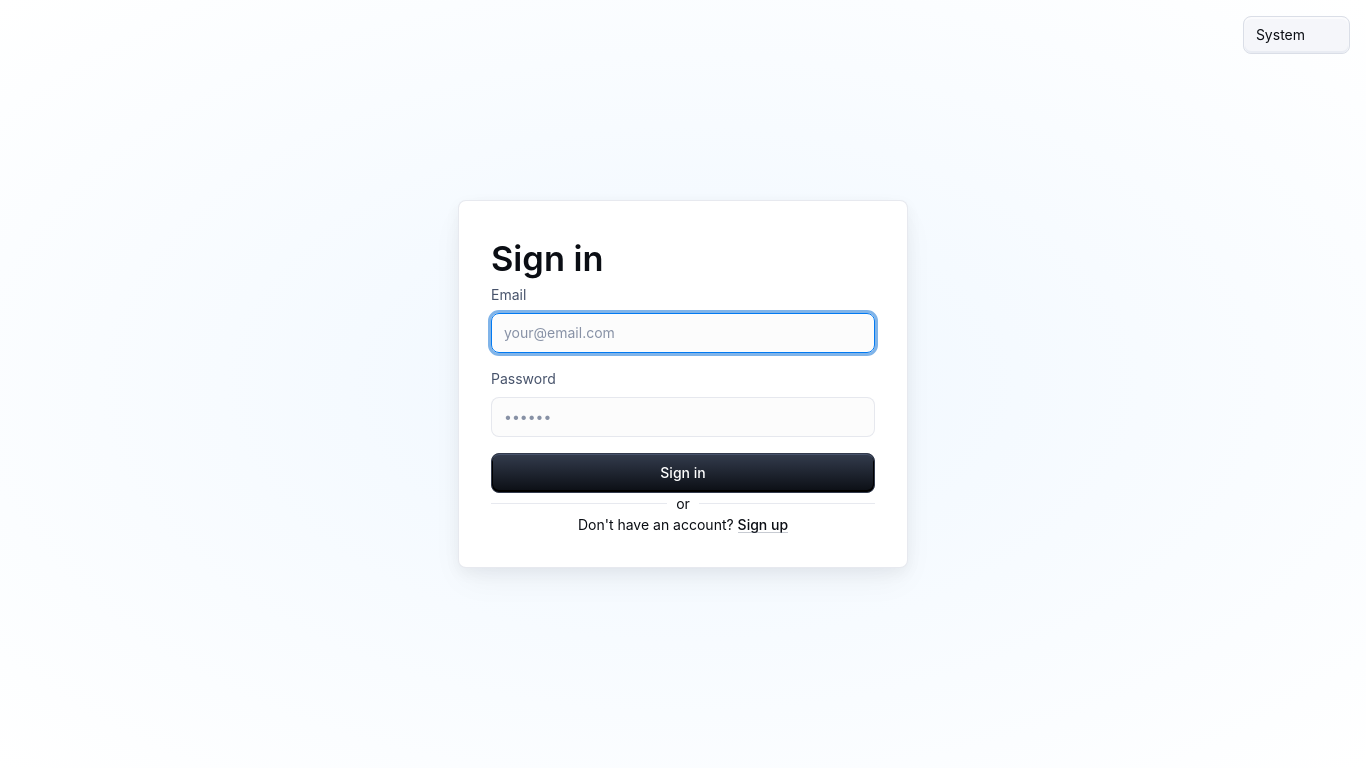
Test: Auth - Sign In › shows server error toast on invalid credentials
In the field with id "email": (683, 333) [504,323,862,343], type "george.bluth@reqres.in"
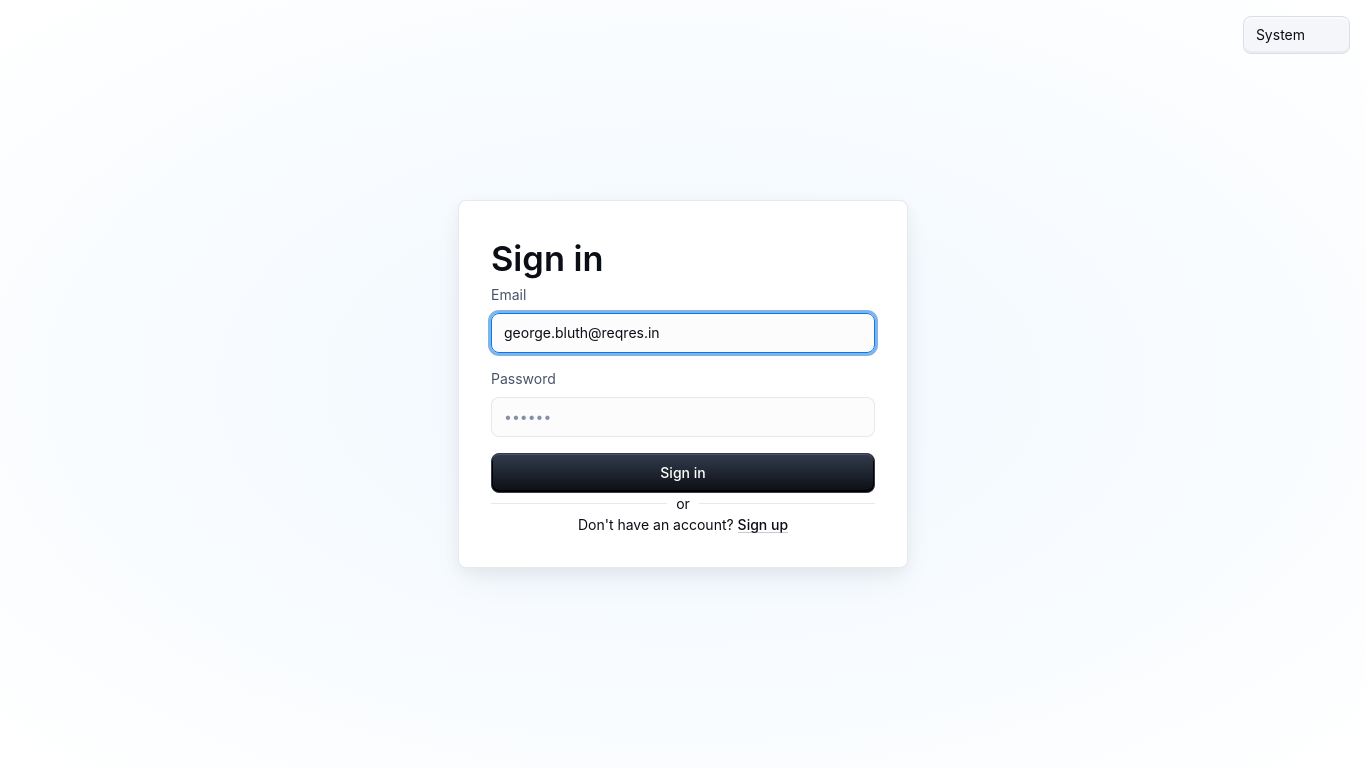
In the password field labelled "Password": (683, 417) [504,407,862,427], type "cityslicka"
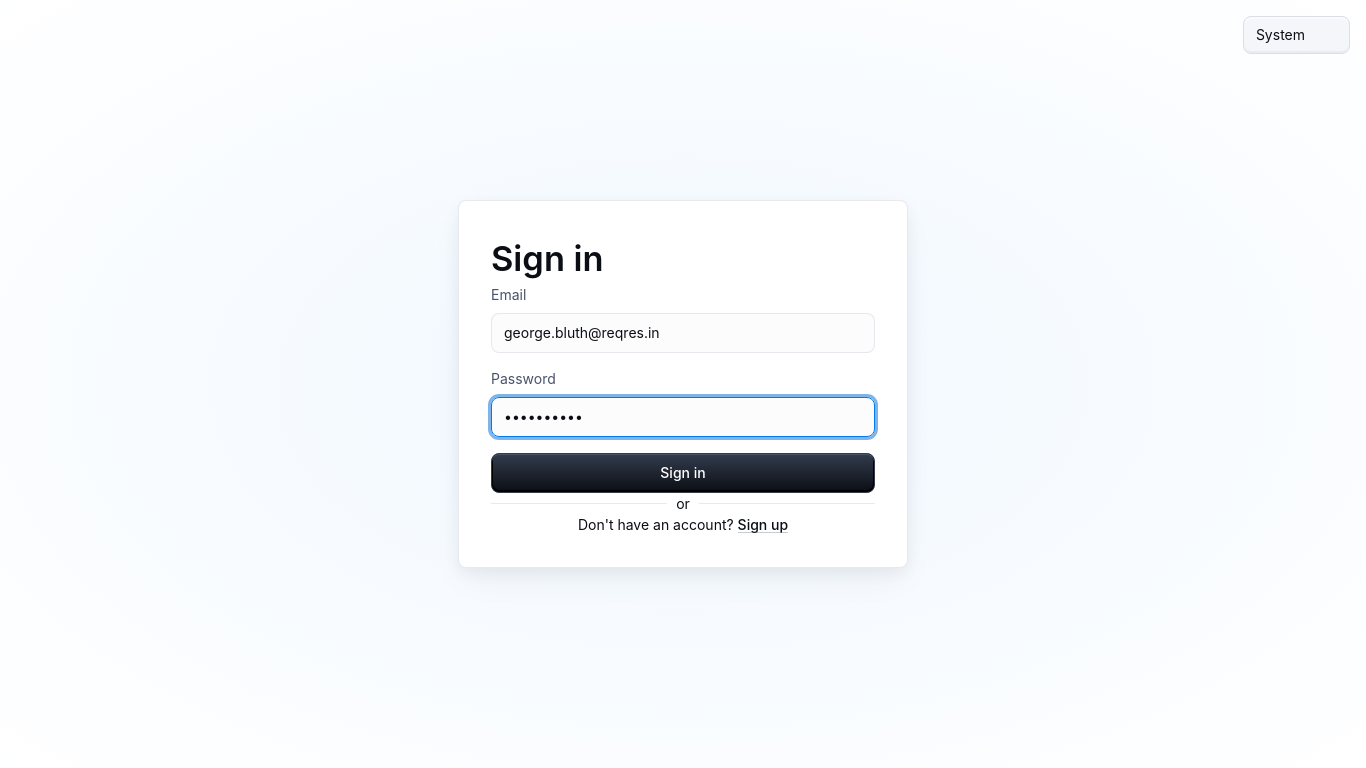
Click the button with id "sign-in-submit": click(683, 473) [491,453,875,493]
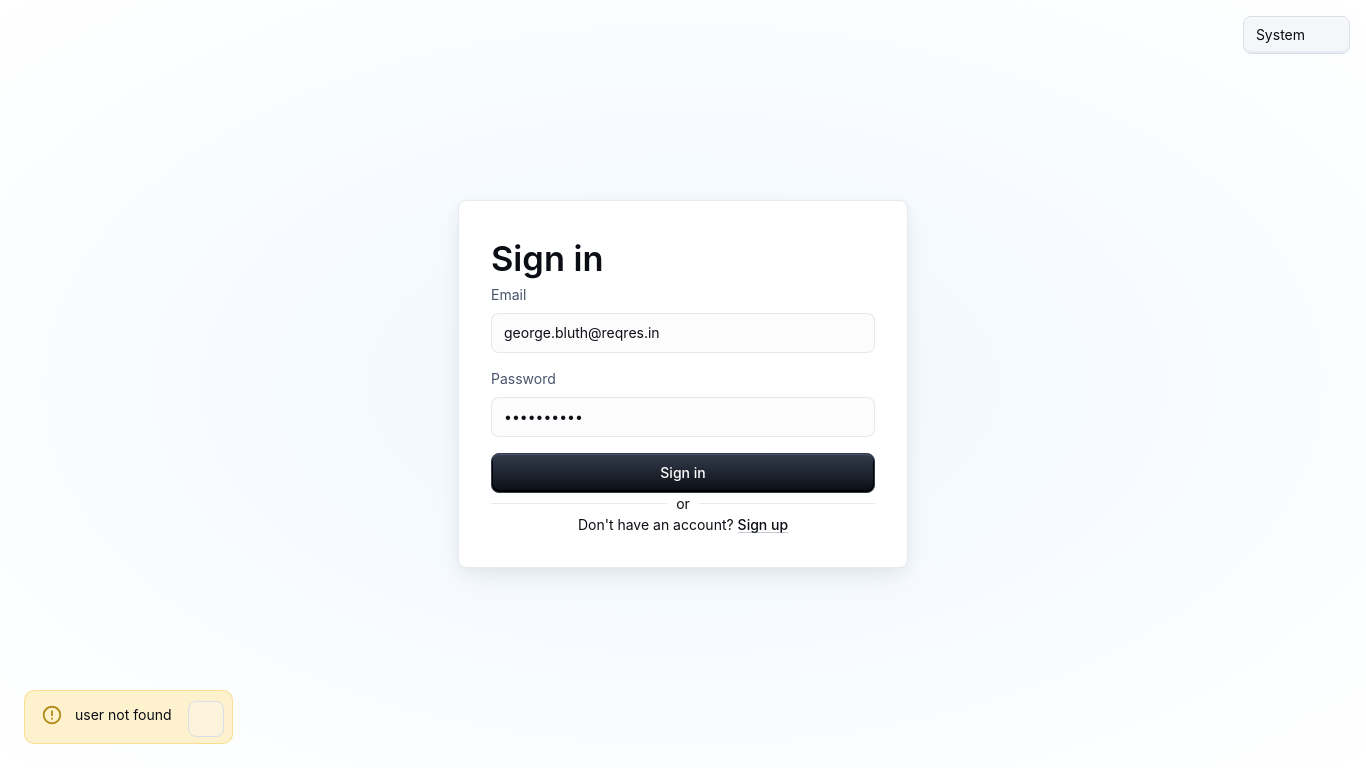
Now the text "user not found" is shown, box [75,706,172,723]
